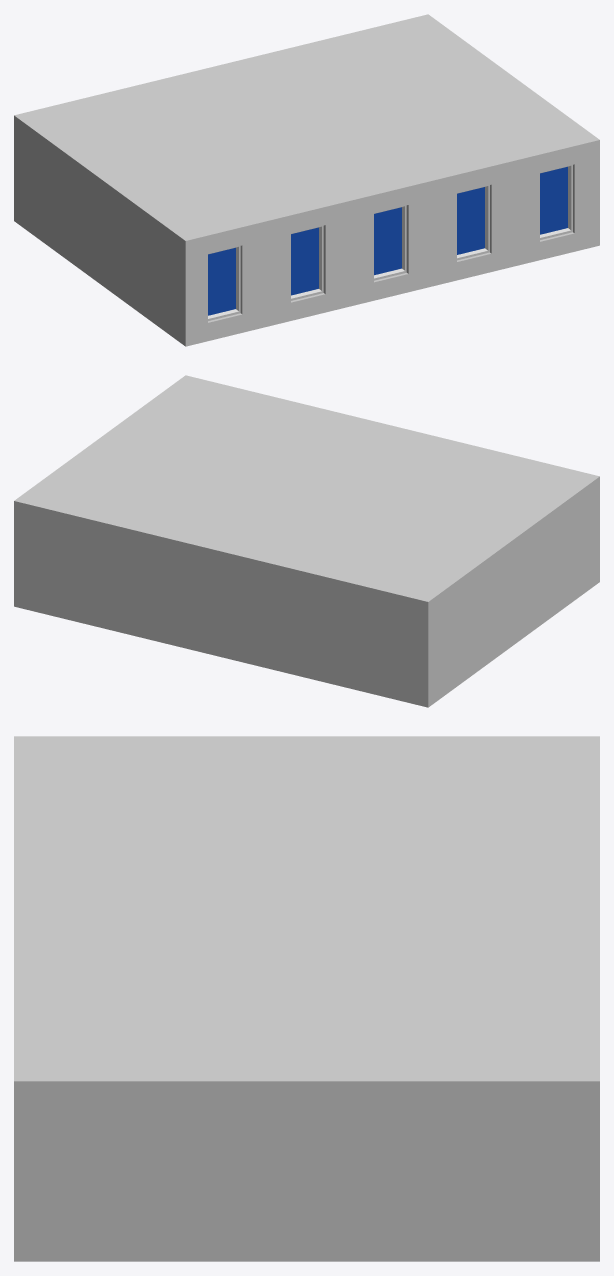
Rendered from 5 Windows Floor.fbx.
3 renders of one model, top to bottom at view 1: azimuth 30°, elevation 25°; view 2: azimuth 150°, elevation 25°; view 3: azimuth 270°, elevation 25°, orthographic. The views are drawn at different scales.
Parts seen in each view (by area): view 1: Lots of Windows; view 2: Lots of Windows; view 3: Lots of Windows.
Part boxes in pixels (bbox=[...]): Lots of Windows: bbox=[14, 14, 599, 346]; Lots of Windows: bbox=[14, 375, 599, 707]; Lots of Windows: bbox=[14, 736, 599, 1261].
Bounding box in the file's own units: 1600 × 390 × 1148.
